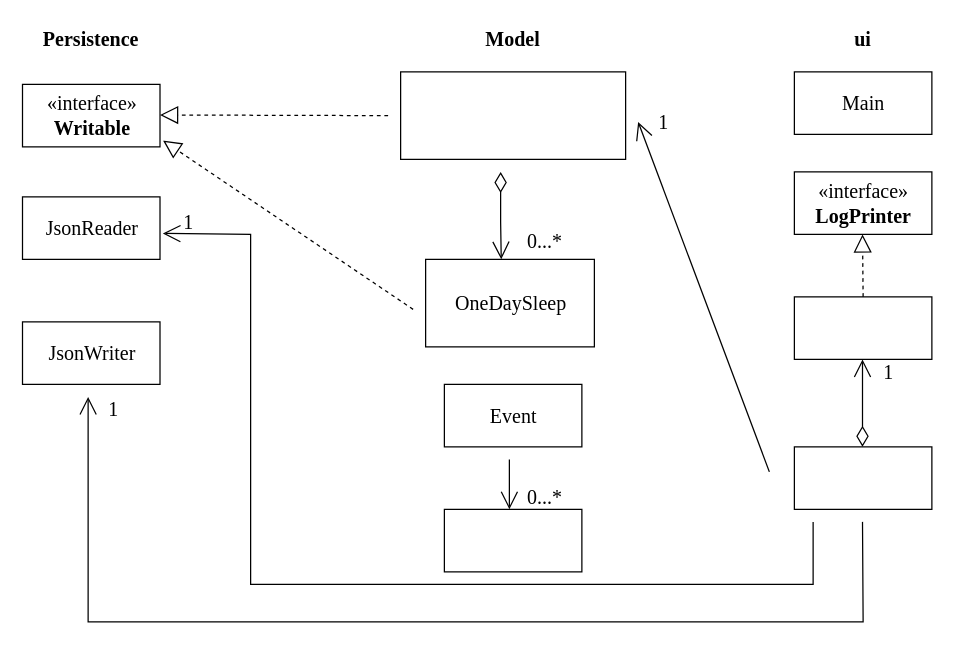
This 954x661 diagram has some shape labels left out. The shapes that lost their labels are listed below. From the top down, each one's box as (x1, y1, x2, y2) in pixels, then its label:
(399, 71, 626, 159): DataCollectionAndProcess
(793, 296, 932, 359): ConsolePrinter
(793, 446, 932, 509): SleepUI
(443, 508, 582, 572): EventLog
